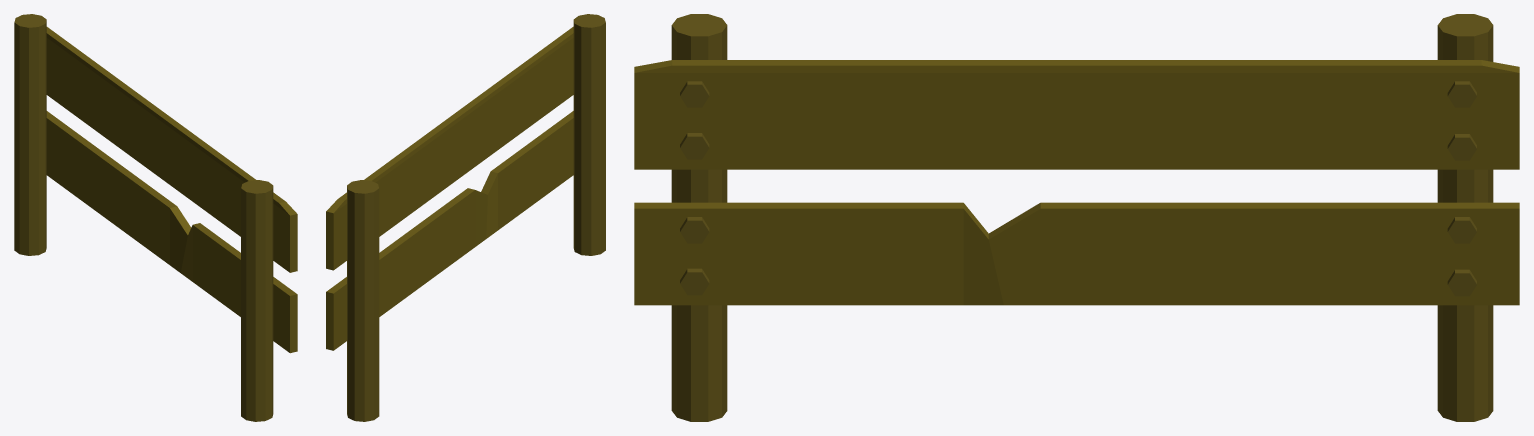
File: cerca-clara-quebrada.fbx
3 views of the same model, side by side, from view 1: azimuth 30°, elevation 25°; view 2: azimuth 150°, elevation 25°; view 3: azimuth 270°, elevation 25° (orthographic). The views are drawn at different scales.
Visible parts, largest first — view 1: Cylinder; view 2: Cylinder; view 3: Cylinder.
Boxes of the visible parts, <box> form: Cylinder: <box>14,14,297,421</box>; Cylinder: <box>326,14,605,421</box>; Cylinder: <box>634,14,1519,421</box>.
Size of the model in its own units: 275 by 1528 by 3179.
